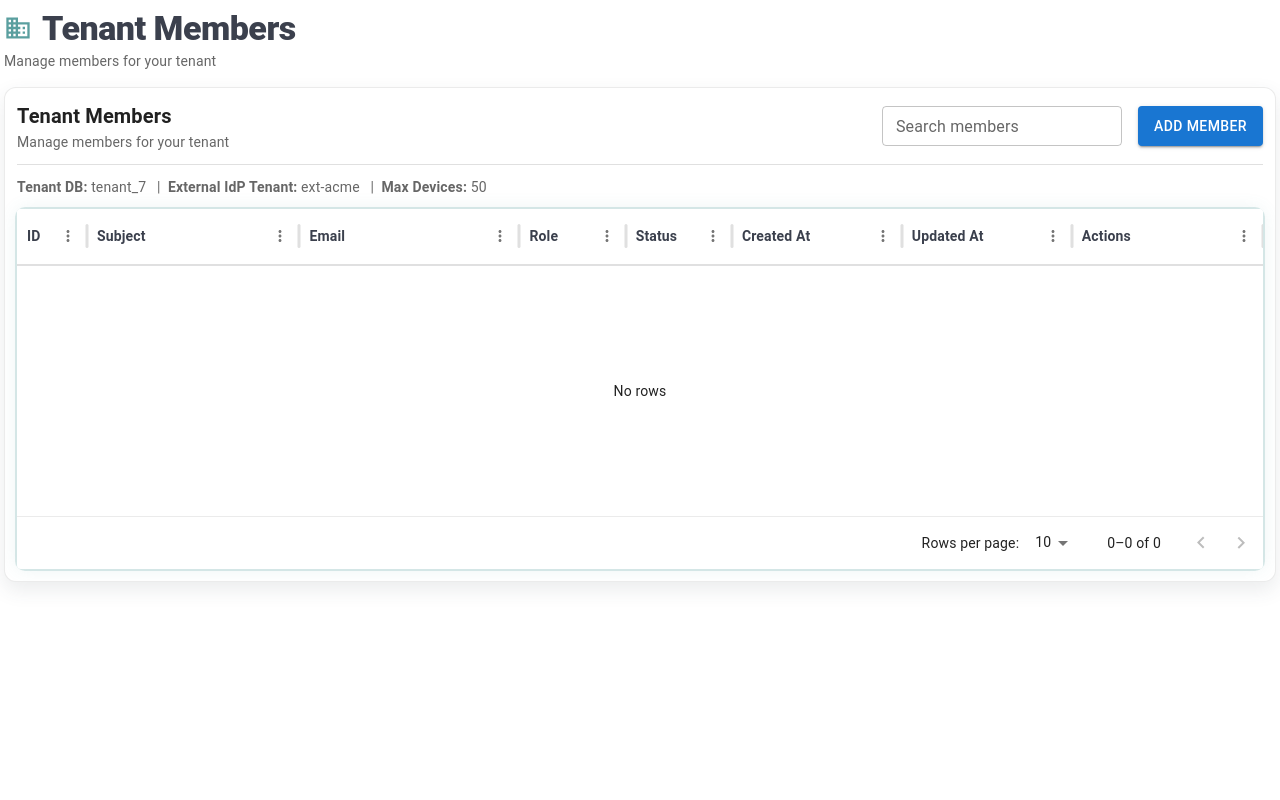
it: TenantMemberDialog — dynamic role selector › sorts built-ins into canonical rank order, not the API's alphabetical IsSystem-first order
Click the button "Add Member": (1200, 126) [1138,106,1263,146]
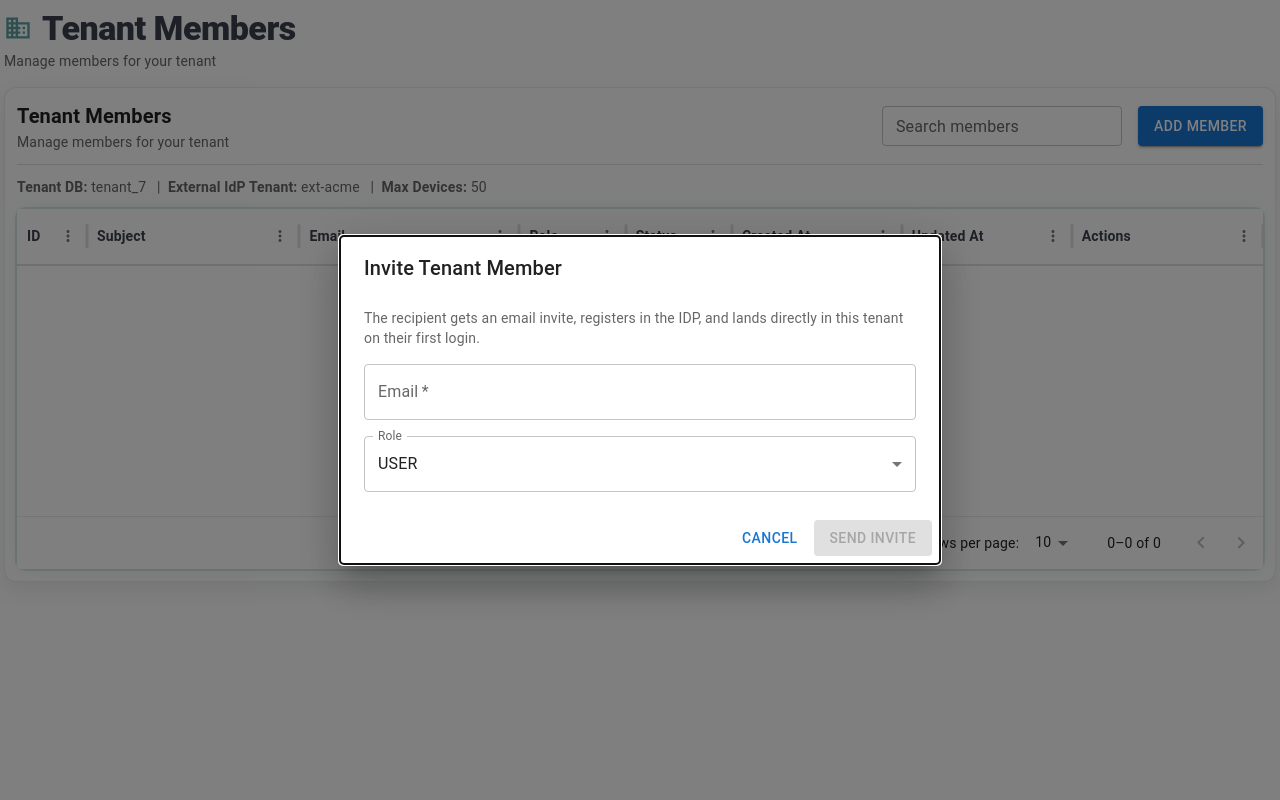
Press the mouse on the dropdown named "Role": (398, 464) [378,454,417,473]
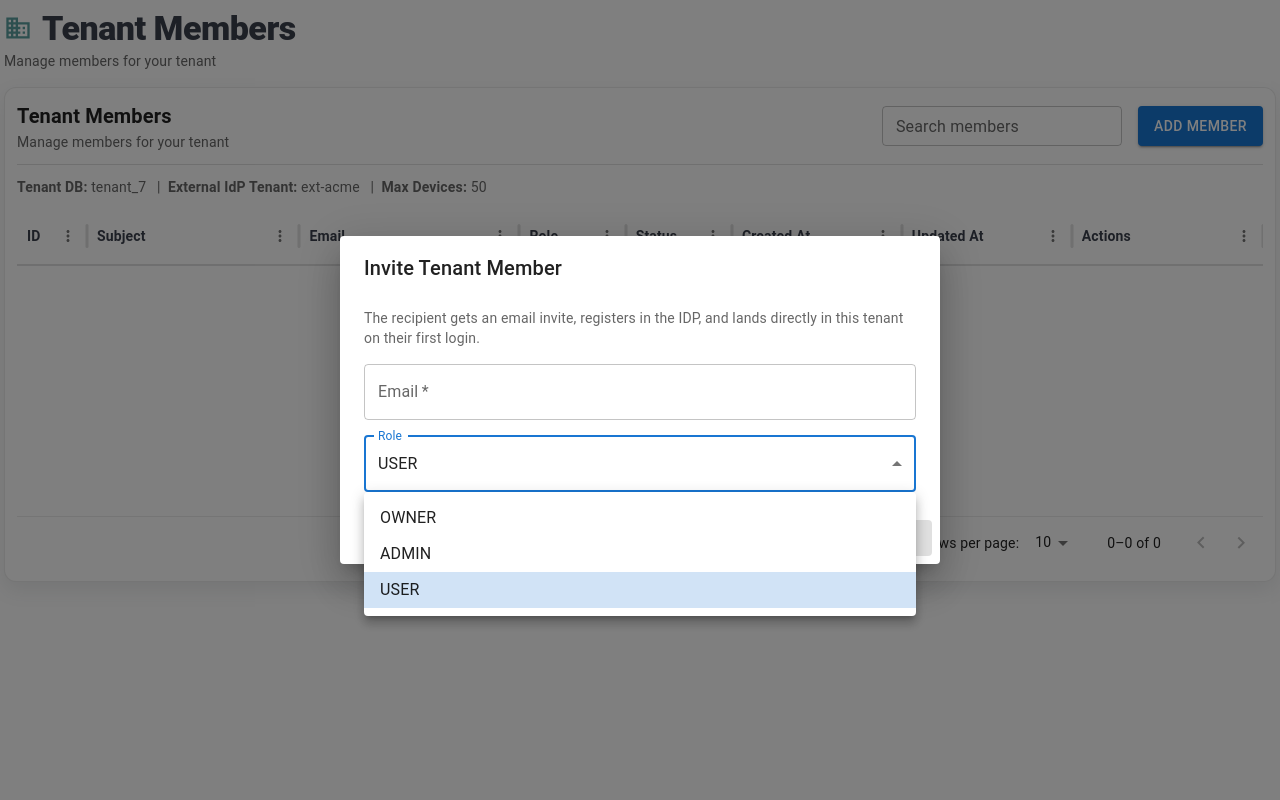
Now the options read "OWNER", "ADMIN", "USER", in this order, box [380,508,436,527]; [380,544,431,563]; [364,572,916,608]
